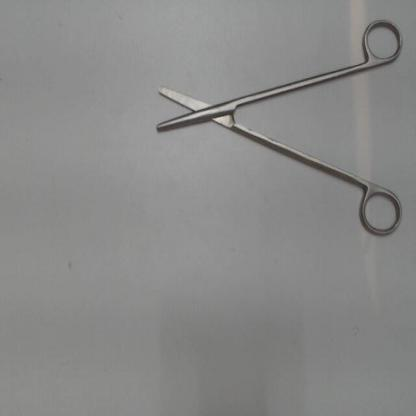9 Metzenbaum Scissors: (152, 9, 410, 247)
